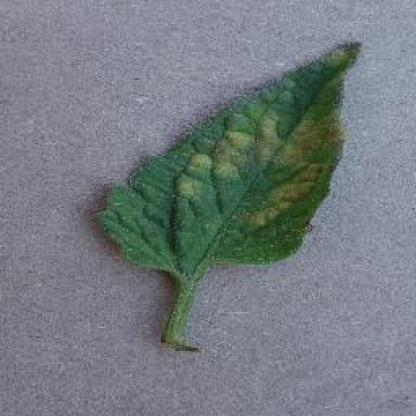Tomato_Leaf_Mold: (100, 42, 360, 277)
